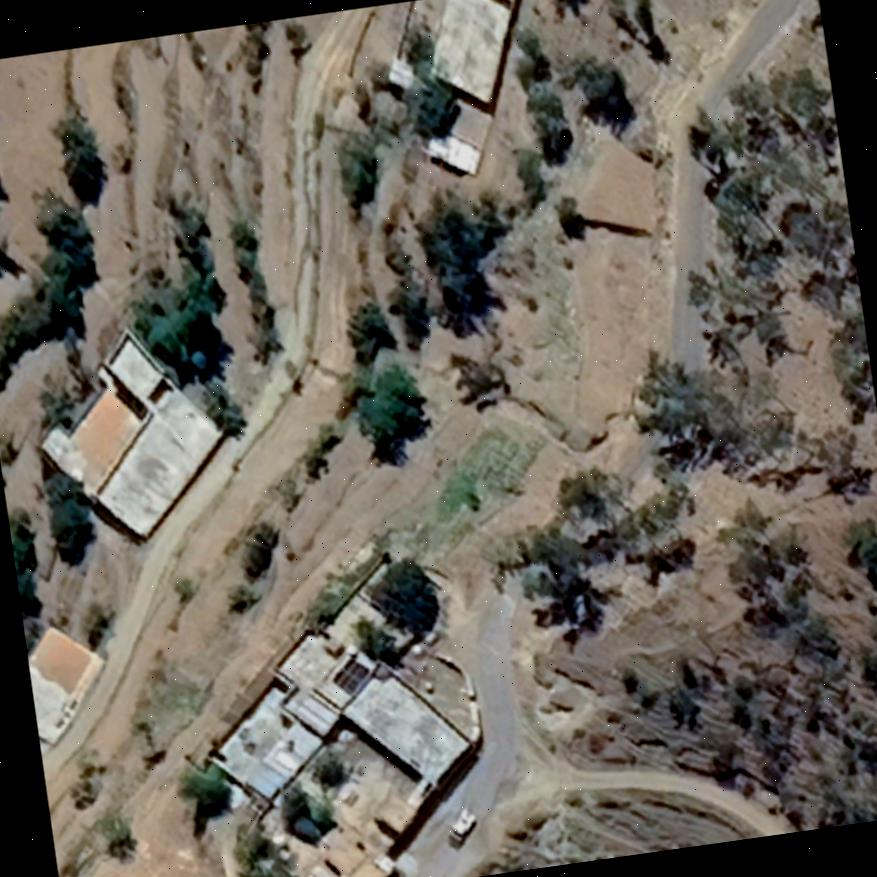Solarpanel: (327, 653, 376, 700)
